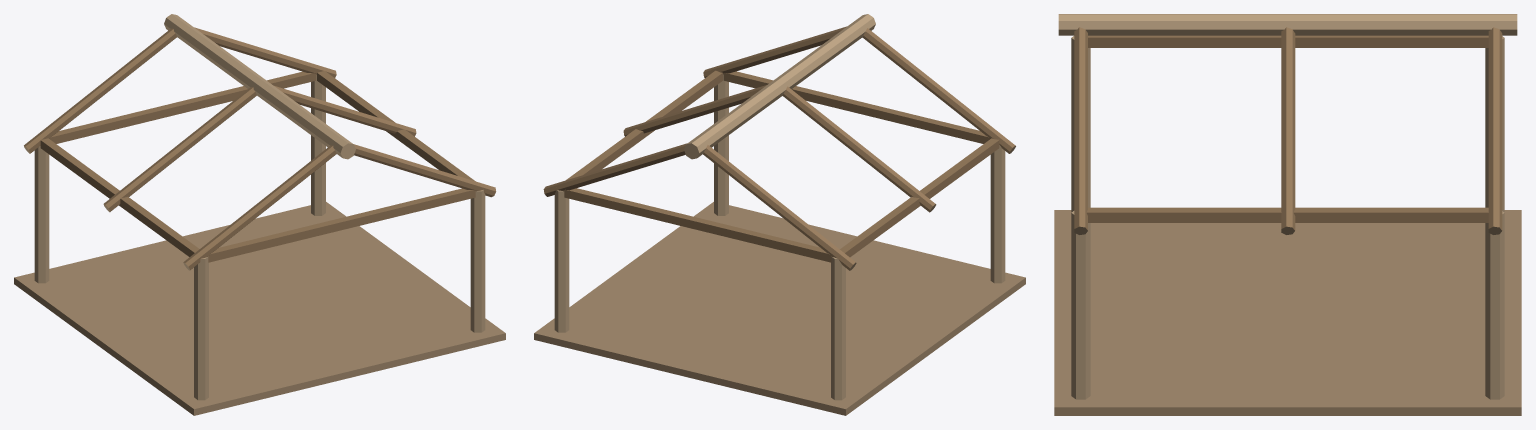
Rendered from building_market_frame.glb.
3 renders of one model, left to right at view 1: azimuth 30°, elevation 25°; view 2: azimuth 150°, elevation 25°; view 3: azimuth 270°, elevation 25°, orthographic. The views are drawn at different scales.
Parts seen in each view (by area): view 1: building_market_frame; view 2: building_market_frame; view 3: building_market_frame.
Part boxes in pixels (left/top/right/bottom): building_market_frame: left=14, top=14, right=505, bottom=415; building_market_frame: left=534, top=14, right=1025, bottom=415; building_market_frame: left=1054, top=14, right=1521, bottom=415.
Bounding box in the file's own units: 4.85 × 3.47 × 4.85.
